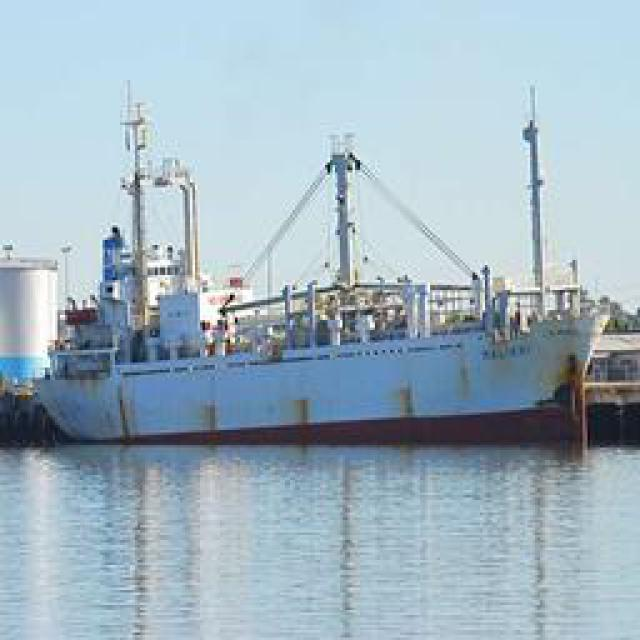Ship: (21, 88, 616, 453)
